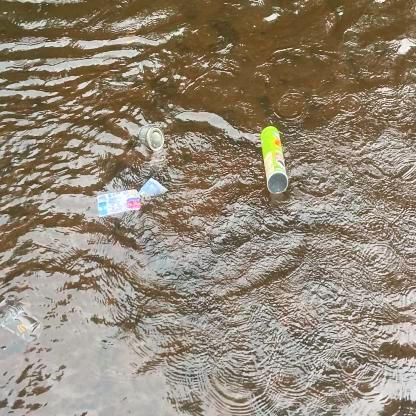Metal: (256, 121, 295, 200), (134, 120, 172, 158)
Plastic: (92, 174, 172, 224)
